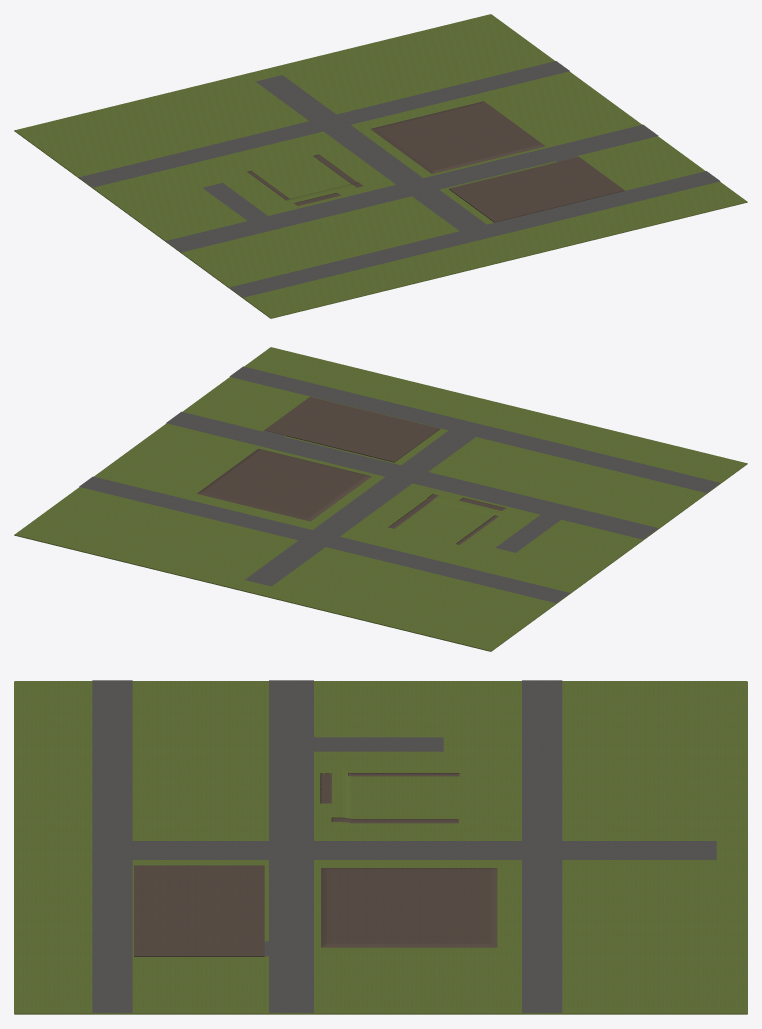
File: terrain-v6.glb
The picture shows the model from 3 angles, top to bottom: view 1: azimuth 30°, elevation 25°; view 2: azimuth 150°, elevation 25°; view 3: azimuth 270°, elevation 25°; orthographic projection. The views are drawn at different scales.
Visible parts, largest first — view 1: terrain_surface; view 2: terrain_surface; view 3: terrain_surface.
Part boxes in pixels (box(x1,y1,x2,y2)): terrain_surface: box(14, 14, 747, 318); terrain_surface: box(14, 347, 747, 651); terrain_surface: box(14, 680, 747, 1014).
Bounding box in the file's own units: 88 × 0.31 × 82.
4 materials, 4 textured.
